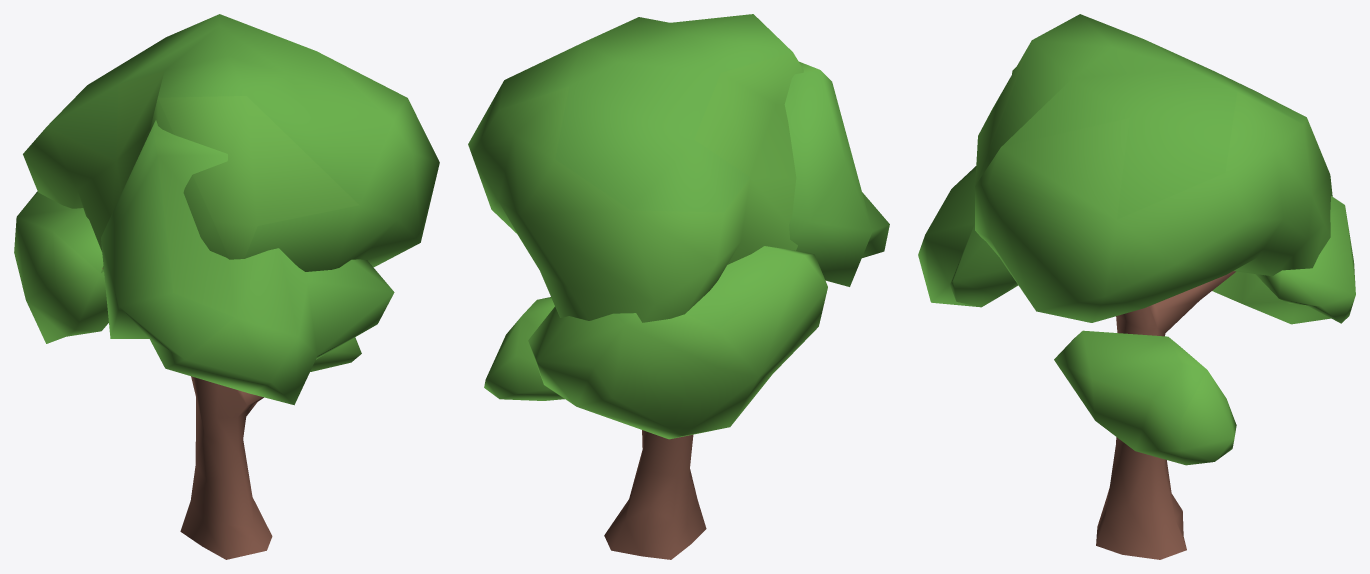
File: tree_013.glb
The picture shows the model from 3 angles, left to right: view 1: azimuth 30°, elevation 25°; view 2: azimuth 150°, elevation 25°; view 3: azimuth 270°, elevation 25°; orthographic projection. The views are drawn at different scales.
Parts seen in each view (by area): view 1: tree_013; view 2: tree_013; view 3: tree_013.
Part boxes in pixels (bbox=[...]): tree_013: bbox=[14, 14, 439, 559]; tree_013: bbox=[468, 14, 889, 559]; tree_013: bbox=[918, 14, 1355, 559].
Bounding box in the file's own units: 5.74 × 7.49 × 6.14.
1 material, 1 textured.
